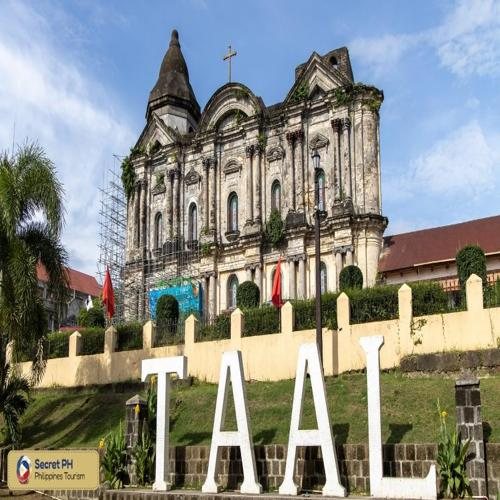Taal Basilica Church: (116, 22, 390, 302)
